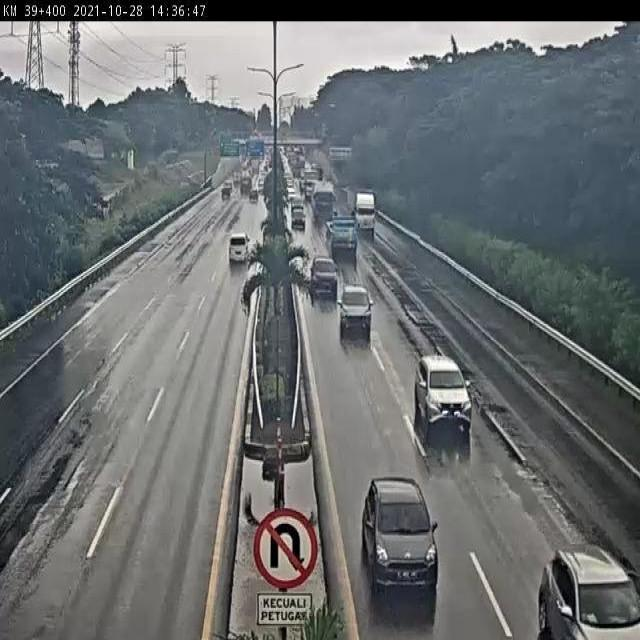big truck: (349, 192, 378, 236), (326, 216, 356, 249)
car: (545, 521, 638, 640), (356, 473, 435, 587), (421, 347, 465, 433), (223, 244, 249, 279), (306, 250, 338, 278), (349, 292, 366, 333), (289, 202, 307, 230)
